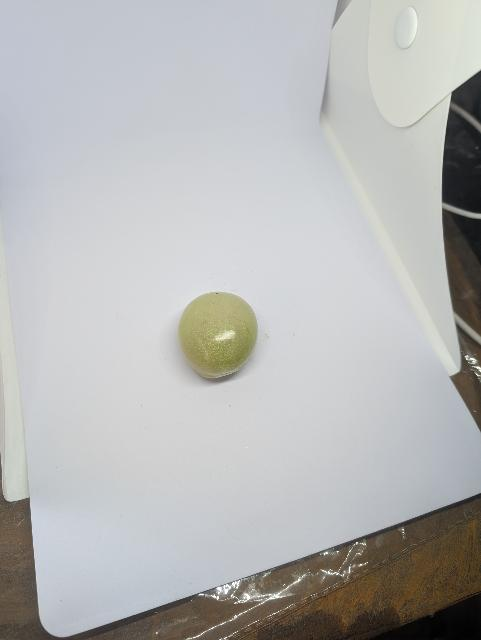green: (177, 290, 259, 381)
